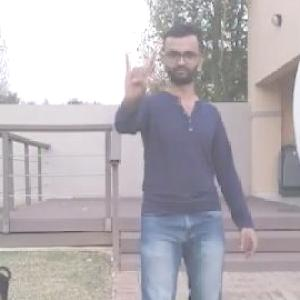takeoff-hand: (117, 43, 159, 99)
